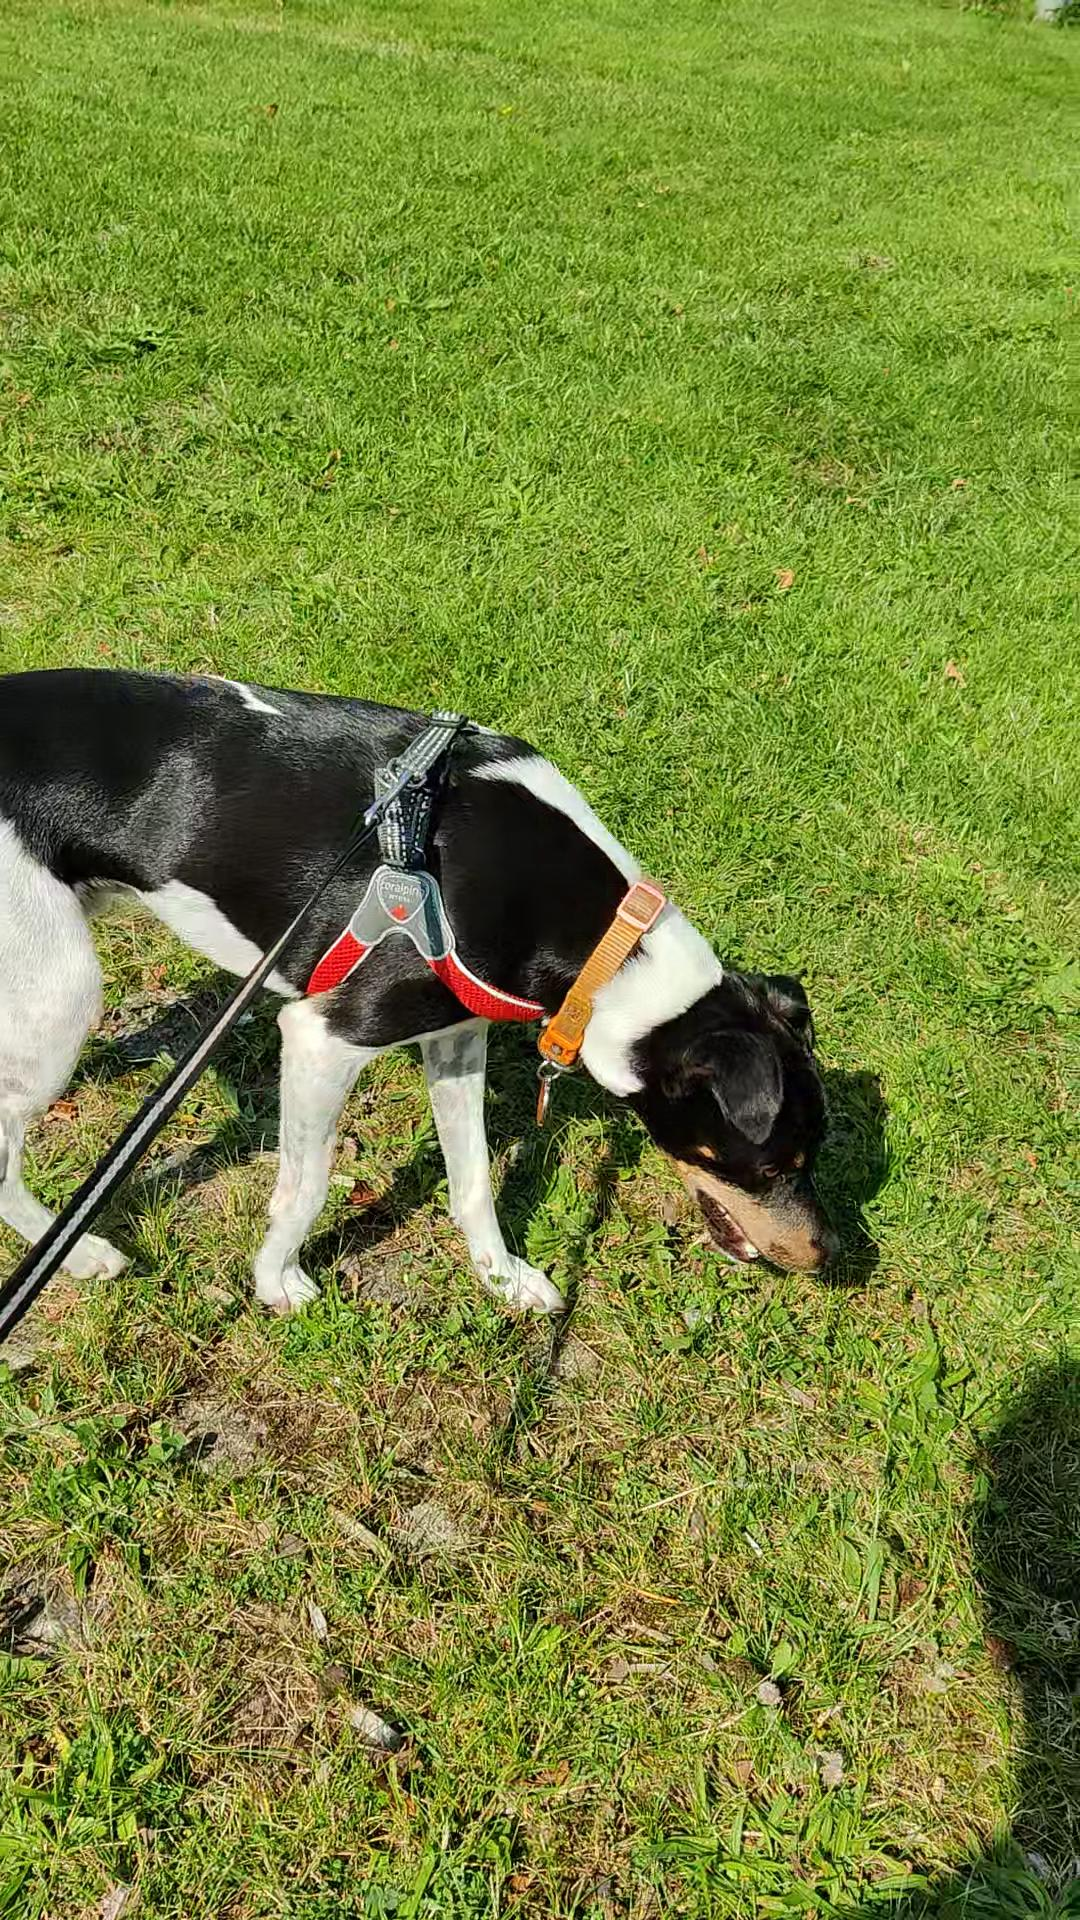Dog: (0, 651, 851, 1320)
